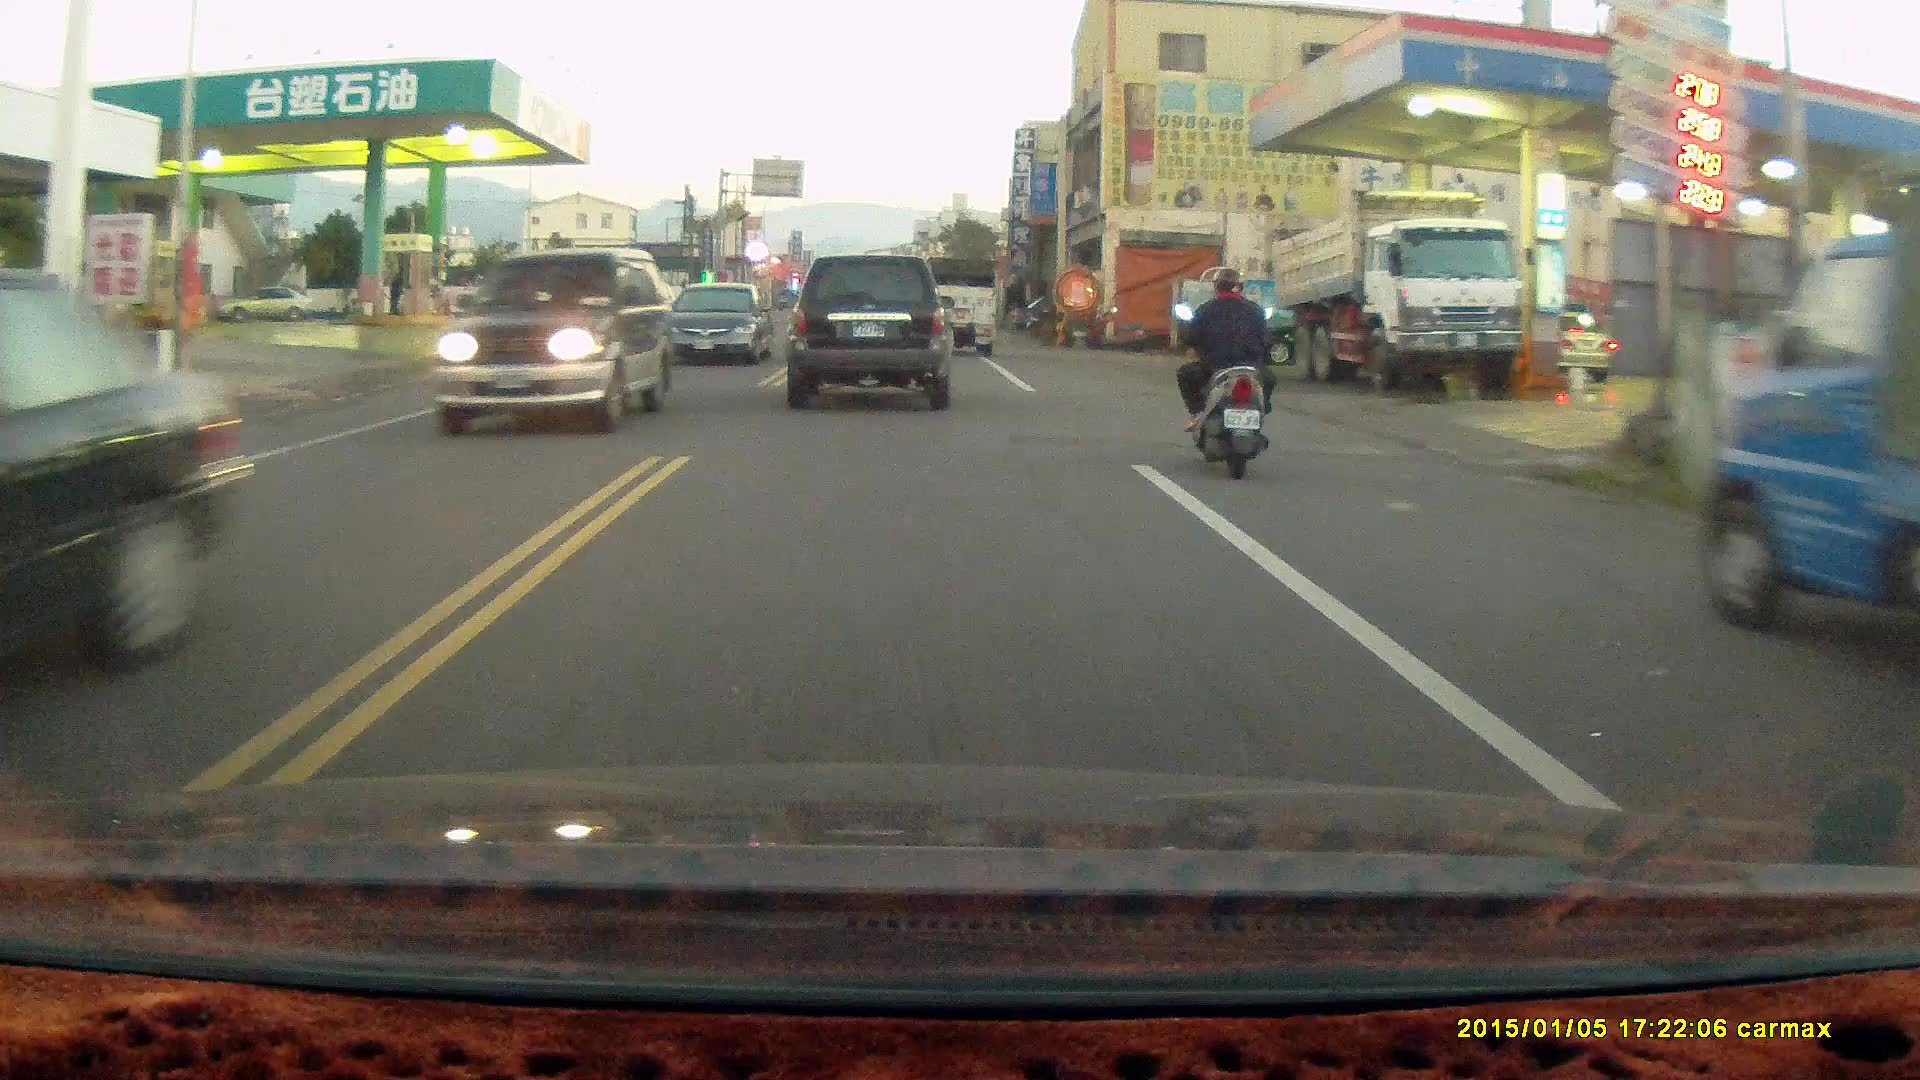rider: (1172, 264, 1279, 480)
vehicle: (1, 274, 254, 720), (1691, 189, 1920, 665), (1264, 188, 1526, 398), (433, 243, 668, 436), (790, 255, 954, 411), (906, 255, 999, 355), (667, 283, 778, 368)
